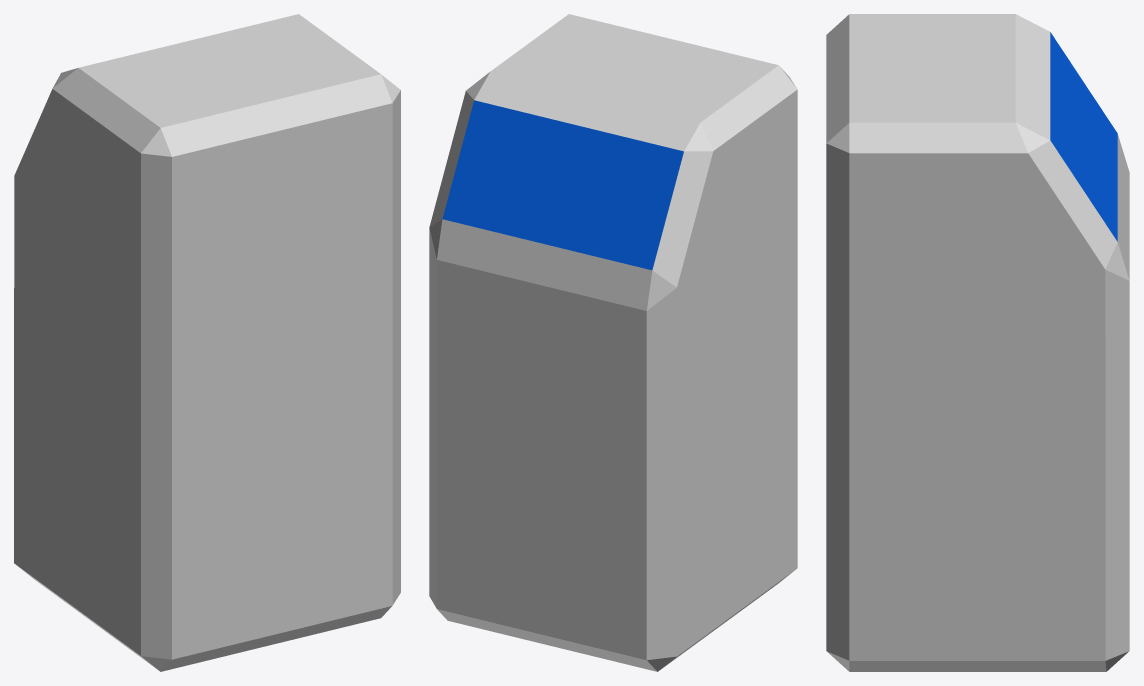
Rendered from Poubelle.fbx.
3 renders of one model, left to right at view 1: azimuth 30°, elevation 25°; view 2: azimuth 150°, elevation 25°; view 3: azimuth 270°, elevation 25°, orthographic. The views are drawn at different scales.
Visible parts, largest first — view 1: Poubelle; view 2: Poubelle; view 3: Poubelle.
Part boxes in pixels (x1,y1,x2,y2): Poubelle: (14, 14, 400, 671); Poubelle: (429, 14, 797, 671); Poubelle: (826, 14, 1129, 671).
Bounding box in the file's own units: 100 × 200 × 100.
